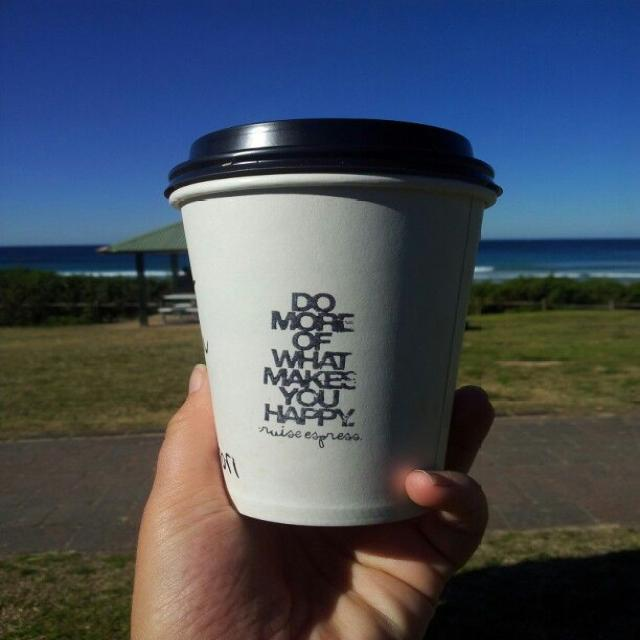paper cup: (165, 119, 503, 526)
